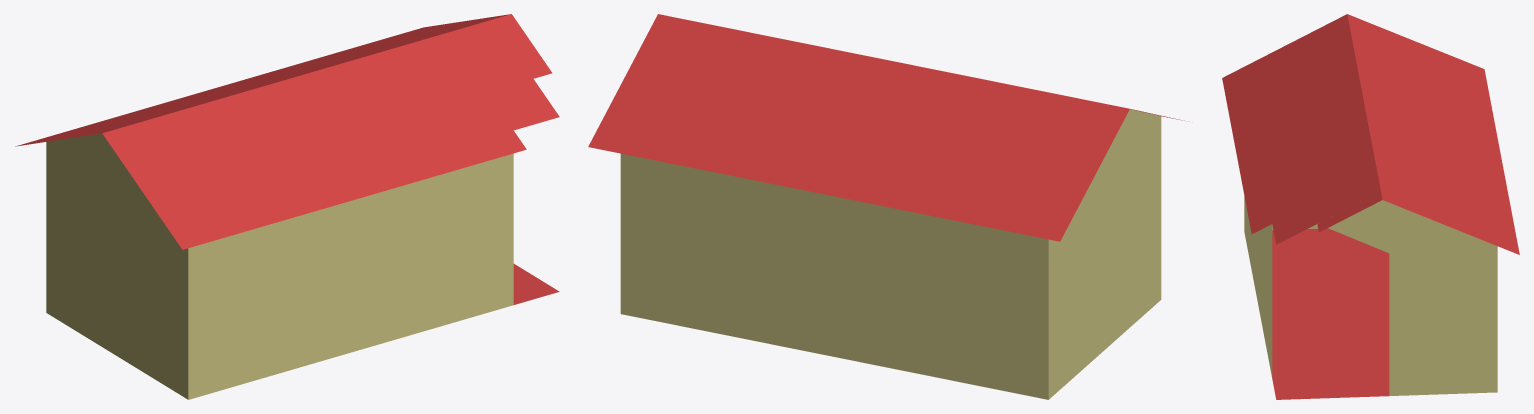
The picture shows the model from 3 angles, left to right: view 1: azimuth 30°, elevation 25°; view 2: azimuth 150°, elevation 25°; view 3: azimuth 270°, elevation 25°; orthographic projection. The views are drawn at different scales.
Parts seen in each view (by area): view 1: group_5, group_3, group_6; view 2: group_5, group_3; view 3: group_3, group_5, group_6.
Part boxes in pixels (<box>): group_5: <box>46,133,513,399</box>; group_3: <box>15,14,559,249</box>; group_6: <box>513,264,559,304</box>; group_5: <box>620,109,1161,399</box>; group_3: <box>588,14,1184,241</box>; group_3: <box>1222,14,1519,254</box>; group_5: <box>1244,196,1497,395</box>; group_6: <box>1272,228,1389,399</box>.
Bounding box in the file's own units: 16.62 × 10.85 × 8.24.
